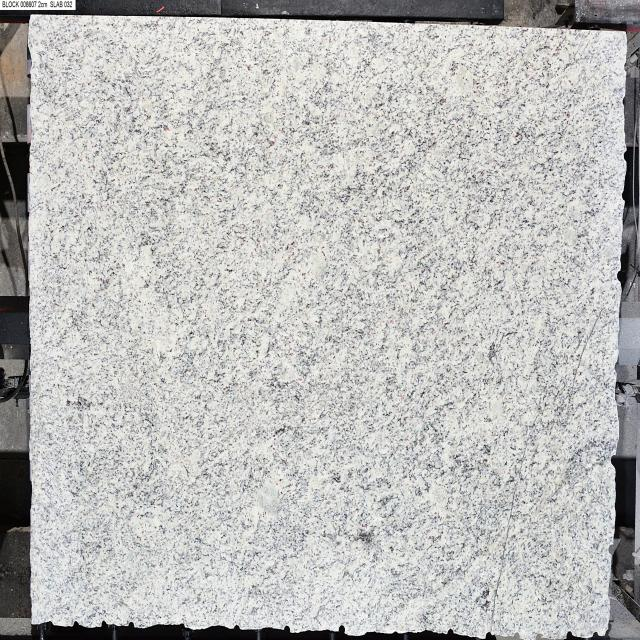chapa: (29, 16, 625, 638)
veio: (606, 541, 616, 555), (610, 453, 618, 467), (616, 268, 622, 283), (513, 629, 521, 640), (338, 624, 345, 635)
